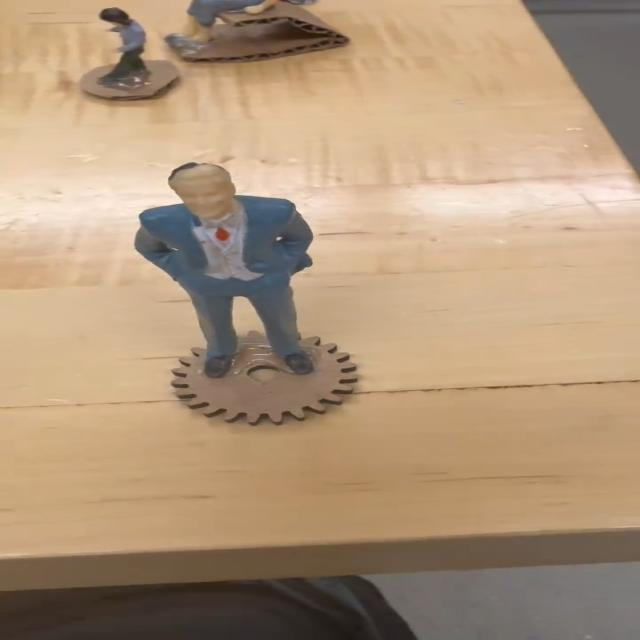Authorized: (128, 156, 331, 381)
